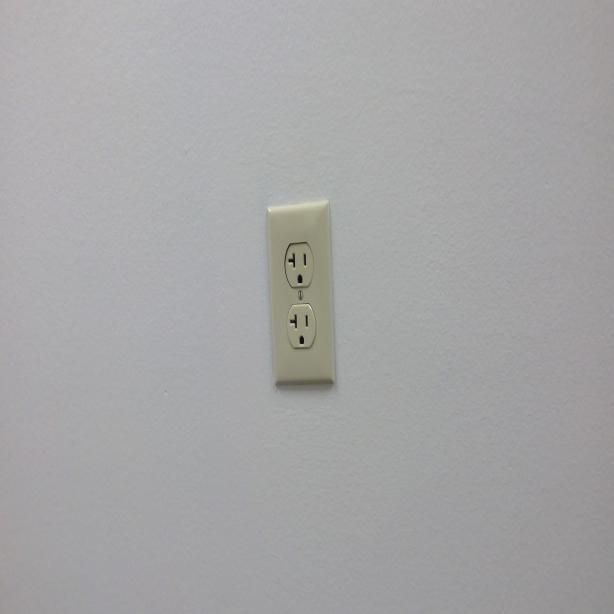typeb: (283, 242, 316, 288), (287, 304, 317, 352)
